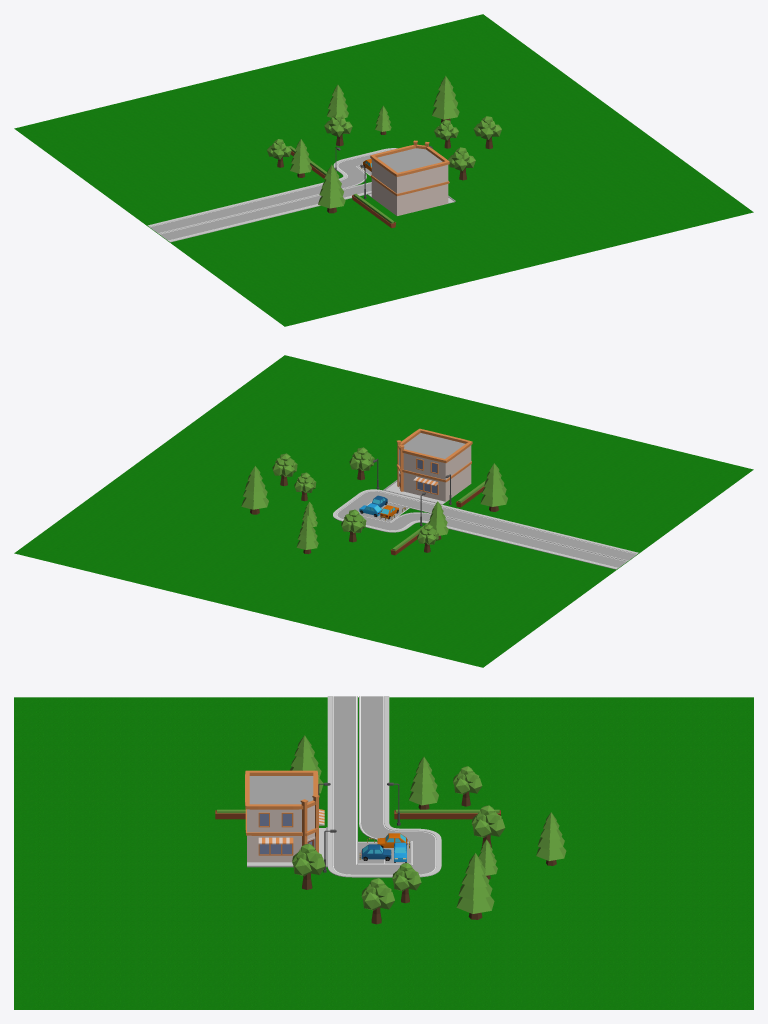
File: parking_jam_29_04_16_25.glb
3 renders of one model, top to bottom at view 1: azimuth 30°, elevation 25°; view 2: azimuth 150°, elevation 25°; view 3: azimuth 270°, elevation 25°, orthographic. The views are drawn at different scales.
Visible parts, largest first — view 1: grass, trees-plant_mat (×2), road-asphalt_mat, house-facade01_mat, road-board_mat, house-facade02_mat, house-asphalt_mat, road-lines_mat; view 2: grass, road-asphalt_mat, trees-plant_mat (×2), house-facade01_mat, road-board_mat, house-facade02_mat, house-asphalt_mat, road-lines_mat; view 3: grass, road-asphalt_mat, trees-plant_mat (×2), road-board_mat, house-facade02_mat, house-facade01_mat, house-asphalt_mat, road-lines_mat, trees-bark_mat, plants-vase_mat, house-windows, plants-plant_mat.
Boxes of the visible parts, <box> form: grass: <box>14,14,753,326</box>; trees-plant_mat (×2): <box>267,76,501,208</box>; road-asphalt_mat: <box>150,150,390,240</box>; house-facade01_mat: <box>371,159,449,215</box>; road-board_mat: <box>147,148,397,242</box>; house-facade02_mat: <box>370,140,449,196</box>; house-asphalt_mat: <box>377,148,442,172</box>; road-lines_mat: <box>149,150,389,240</box>; grass: <box>14,355,753,667</box>; road-asphalt_mat: <box>336,491,636,567</box>; trees-plant_mat (×2): <box>241,447,507,549</box>; house-facade01_mat: <box>398,445,471,501</box>; road-board_mat: <box>333,489,638,569</box>; house-facade02_mat: <box>396,428,472,494</box>; house-asphalt_mat: <box>404,433,465,458</box>; road-lines_mat: <box>336,491,636,567</box>; grass: <box>14,697,753,1009</box>; road-asphalt_mat: <box>332,696,436,874</box>; trees-plant_mat (×2): <box>290,735,566,913</box>; road-board_mat: <box>327,696,441,877</box>; house-facade02_mat: <box>245,770,324,855</box>; house-facade01_mat: <box>247,805,324,862</box>; house-asphalt_mat: <box>249,776,313,804</box>; road-lines_mat: <box>333,696,436,874</box>; trees-bark_mat: <box>302,792,556,924</box>; plants-vase_mat: <box>215,810,500,819</box>; house-windows: <box>259,814,312,854</box>; plants-plant_mat: <box>217,809,499,813</box>.
Bounding box in the file's own units: 1800 × 180 × 1800.
Materials: 15 (4 with a texture image).
